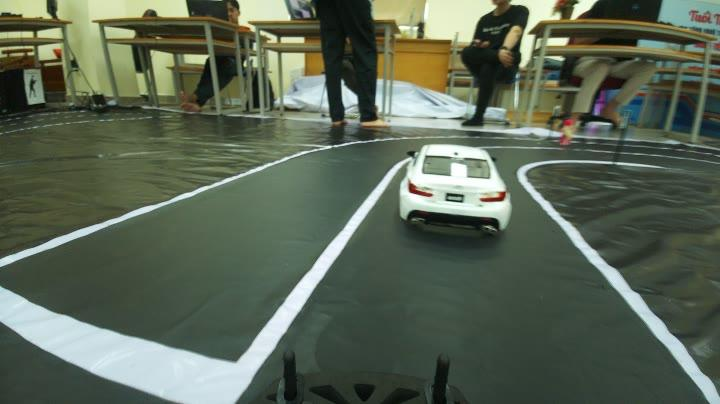car: (403, 136, 518, 242)
